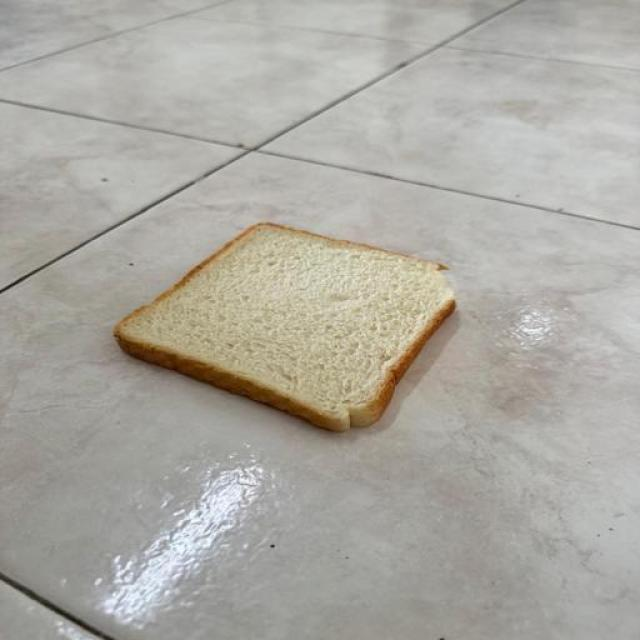organic: (114, 223, 454, 431)
